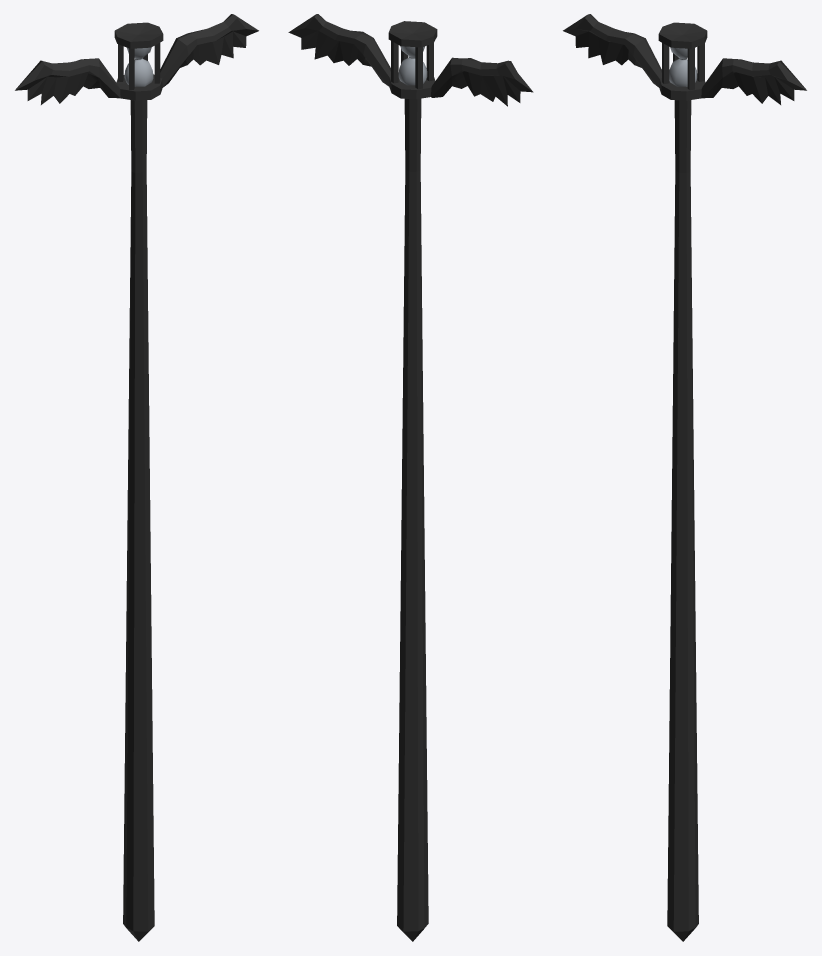
The model's file is PT_Medieval_Plague_Doctor_Wand.fbx.
The picture shows the model from 3 angles, left to right: view 1: azimuth 30°, elevation 25°; view 2: azimuth 150°, elevation 25°; view 3: azimuth 330°, elevation 25°; orthographic projection.
Visible parts, largest first — view 1: PT_Medieval_Plague_Doctor_Wand; view 2: PT_Medieval_Plague_Doctor_Wand; view 3: PT_Medieval_Plague_Doctor_Wand.
Boxes of the visible parts, bbox=[...] form: PT_Medieval_Plague_Doctor_Wand: bbox=[15, 14, 258, 941]; PT_Medieval_Plague_Doctor_Wand: bbox=[288, 14, 533, 941]; PT_Medieval_Plague_Doctor_Wand: bbox=[563, 14, 806, 941].
Bounding box in the file's own units: 27.09 × 96.14 × 4.67.
